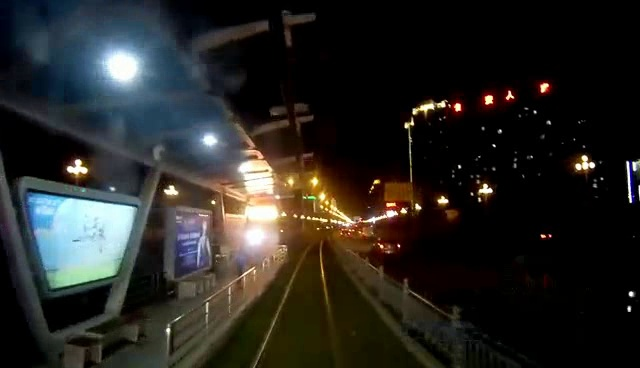car: (374, 235, 406, 257)
